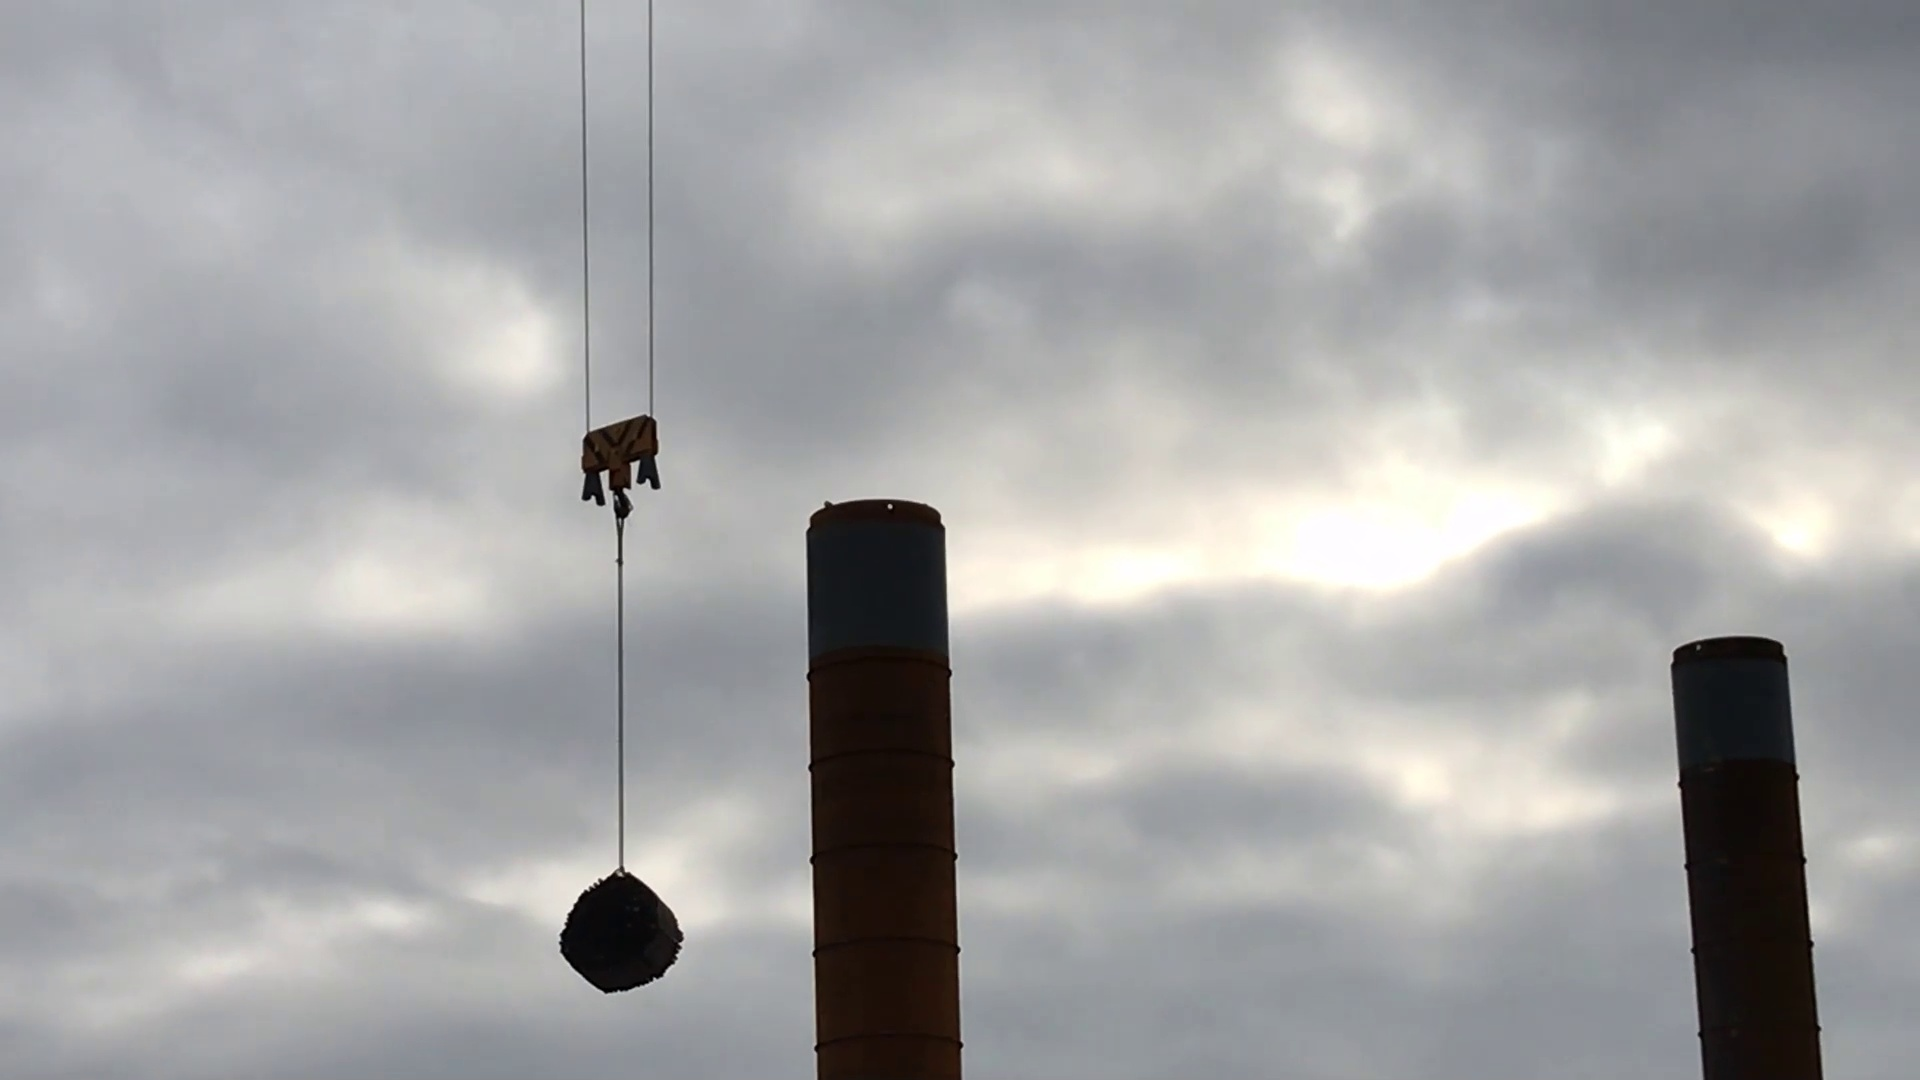hook: (572, 413, 673, 513)
